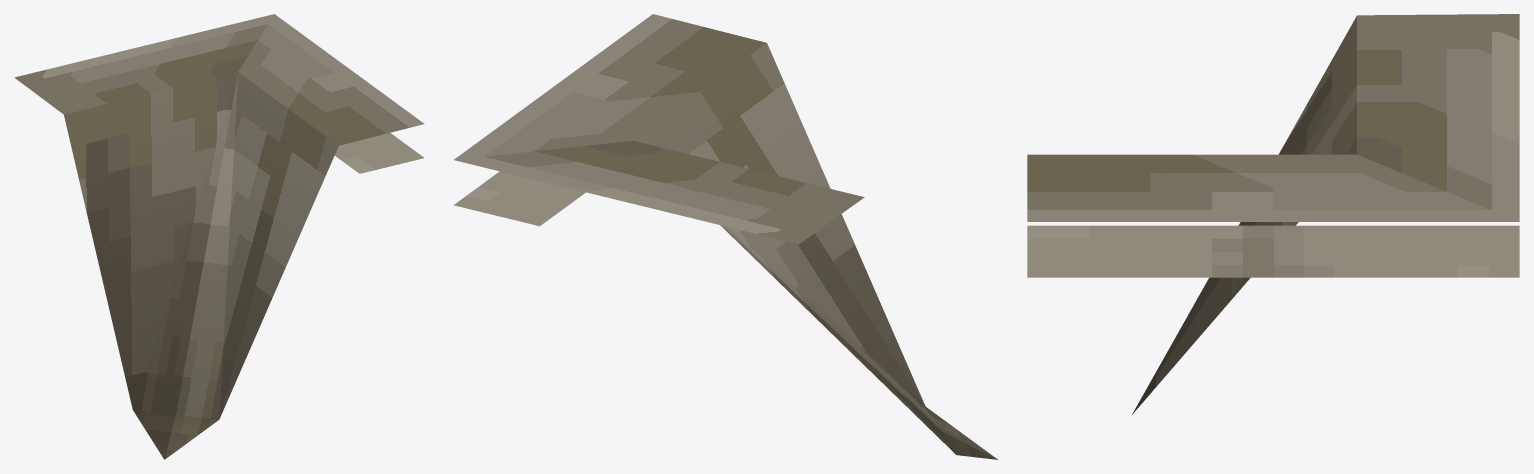
The picture shows the model from 3 angles, left to right: view 1: azimuth 30°, elevation 25°; view 2: azimuth 150°, elevation 25°; view 3: azimuth 270°, elevation 25°; orthographic projection. The views are drawn at different scales.
Bounding box in the file's own units: 1 × 1 × 1.
2 materials, 2 textured.
